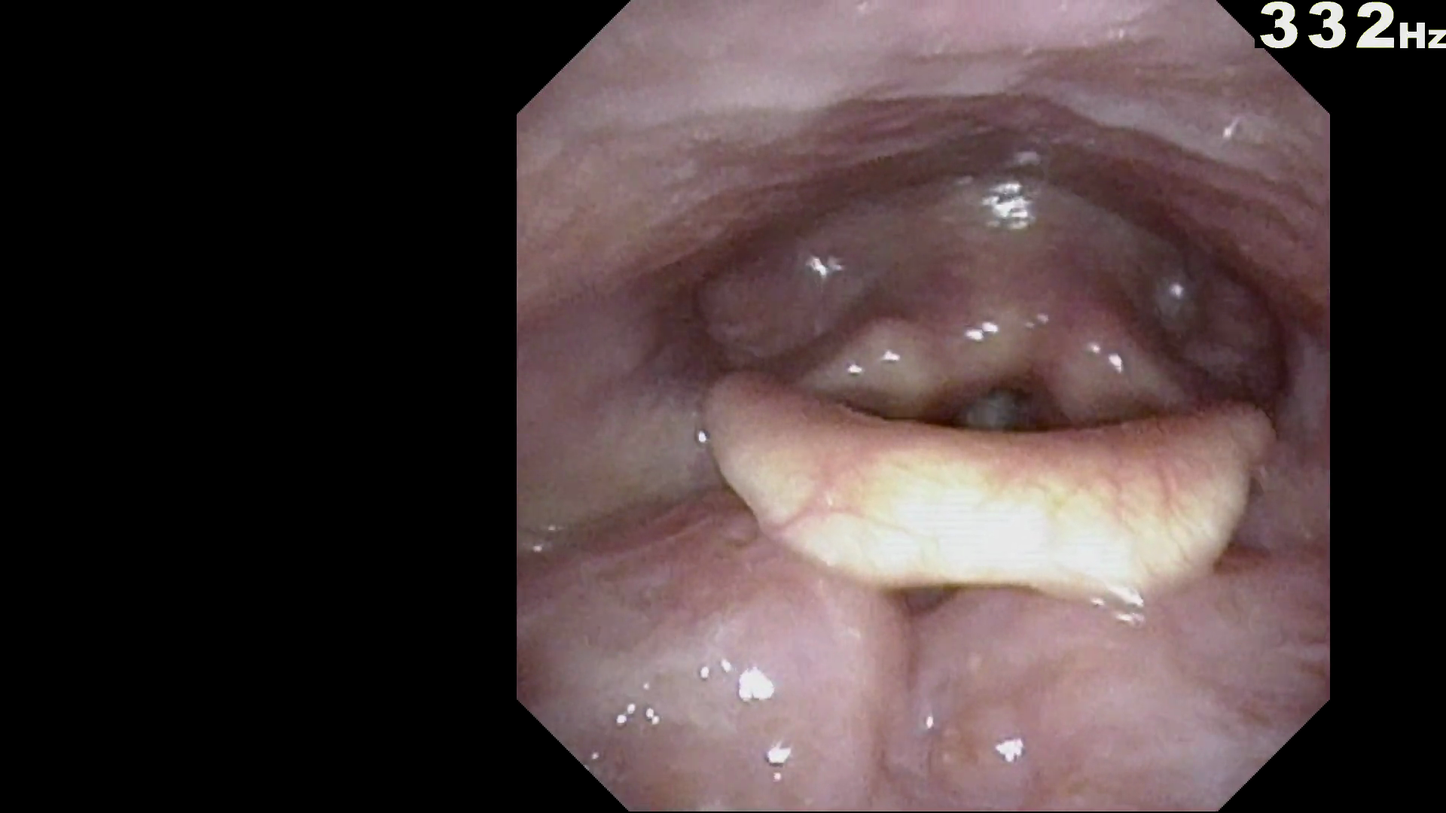epiglottis: (685, 355, 1287, 601)
trachea: (934, 320, 1080, 474)
